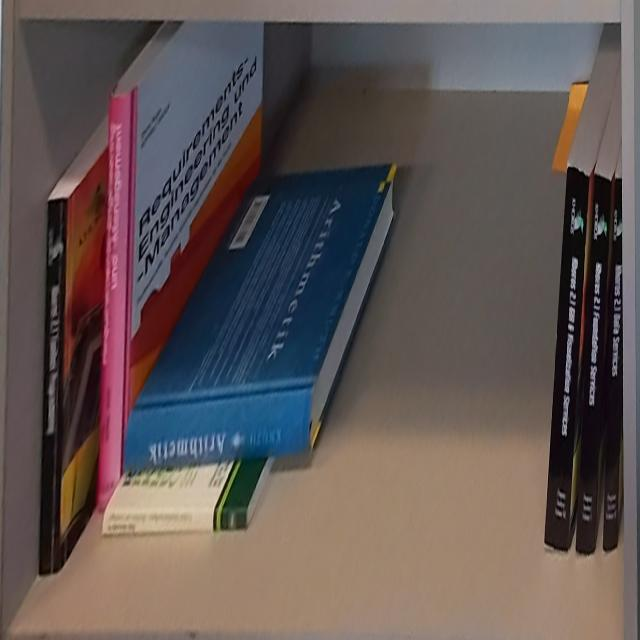Book Spine: (94, 78, 135, 512), (543, 169, 589, 550), (124, 388, 318, 477), (576, 174, 615, 561), (38, 199, 68, 576), (603, 180, 625, 541), (102, 505, 248, 538)
